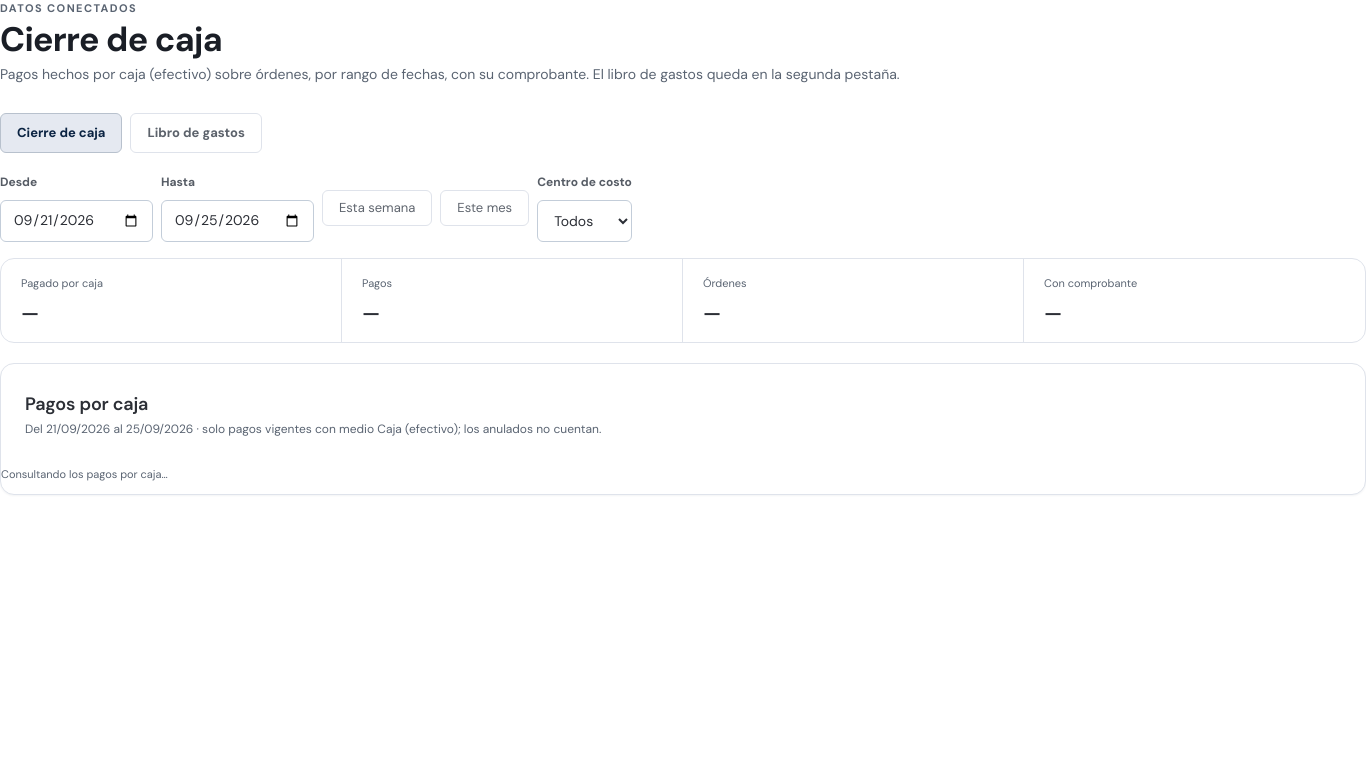
RF-305: el libro de gastos APLICA el reparto guardado › volver a repartir abre el gasto ENTERO con el reparto vigente precargado (no la porción)
Click the tab "Libro de gastos". click: [196, 134]
box: x1=130 y1=114 x2=262 y2=154
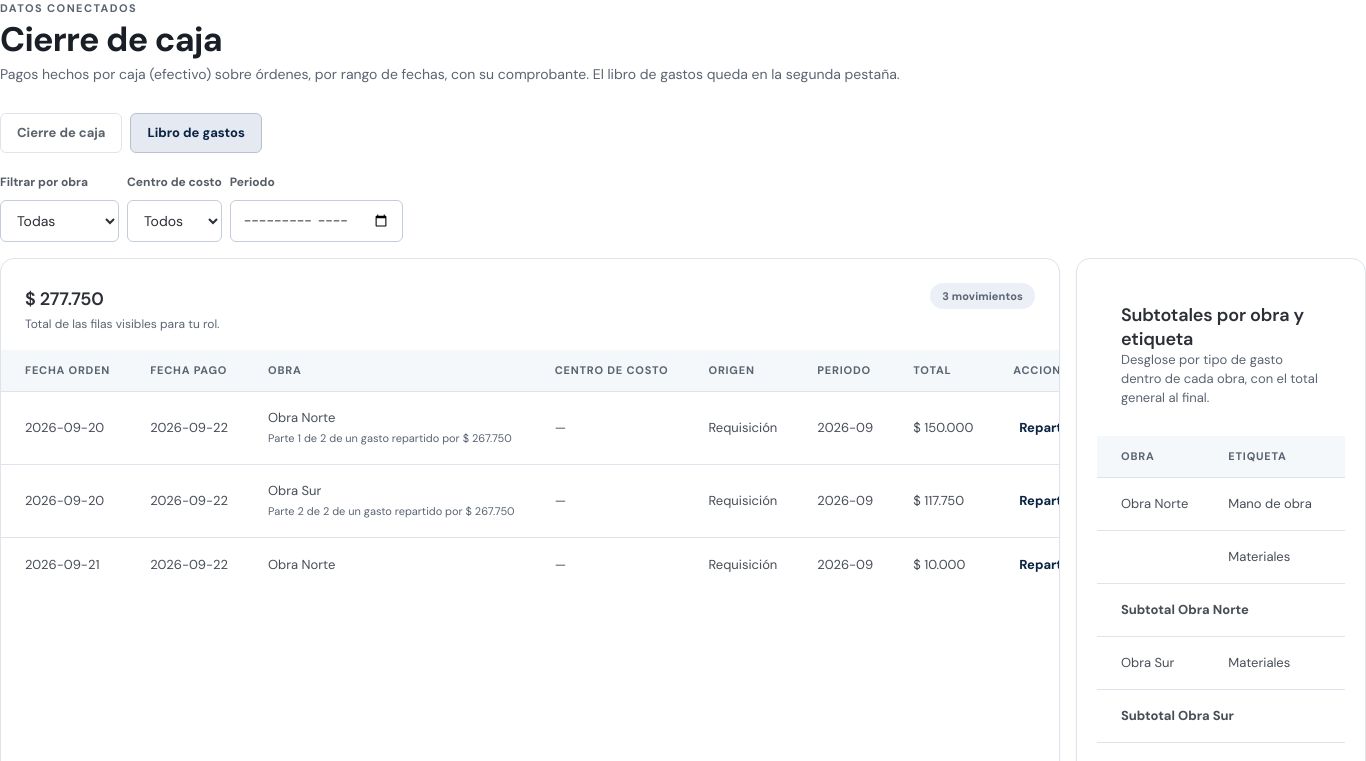
Click the button with test id "expense-share-trigger" next to "$ 117.750". click: [1054, 501]
box: x1=1013 y1=490 x2=1094 y2=512
(page scrolled)
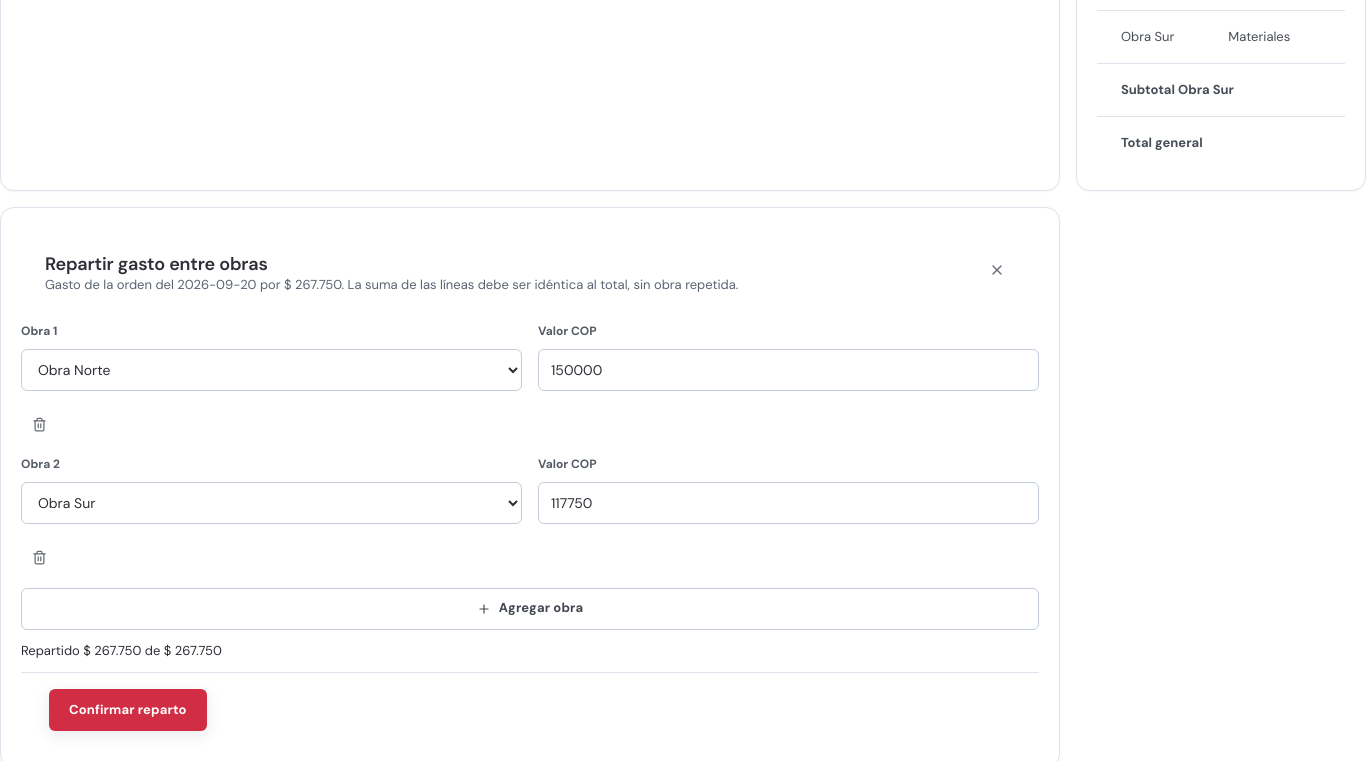
Expected: the button "Confirmar reparto" is enabled, x1=49 y1=689 x2=207 y2=731
